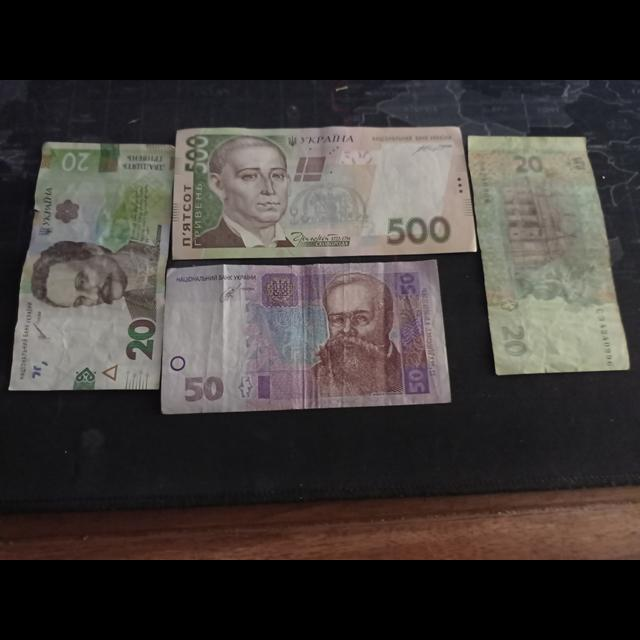20uah: (10, 140, 173, 393), (466, 134, 631, 376)
500uah: (173, 126, 476, 259)
50uah: (162, 261, 451, 412)
